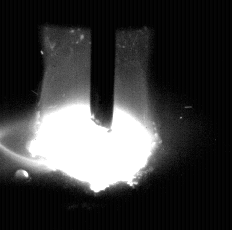arame: (91, 0, 114, 134)
poca: (28, 0, 159, 230)
